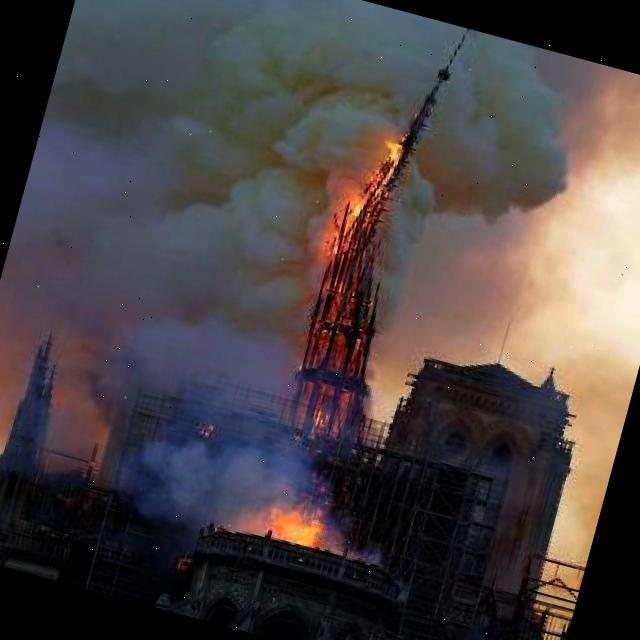fire: (267, 122, 413, 442), (310, 494, 430, 602), (250, 494, 331, 562)
